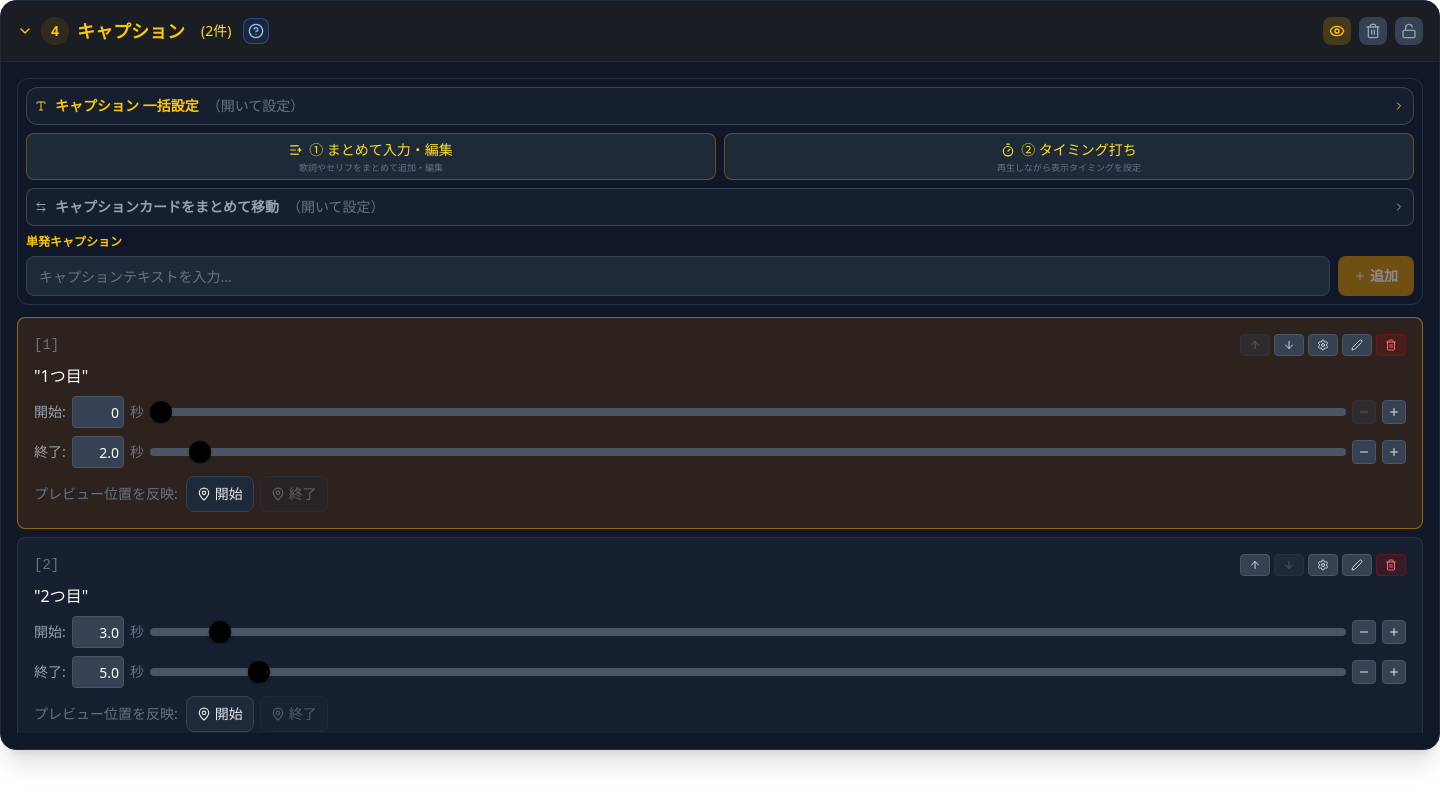
Test: タイミング打ちバーの無音区間ナビゲーション › 移動先が無い方向のボタンは無効になる
This screenshot has width=1440, height=810.
Note: タイミング打ちモードへ入る（バーはこのモードでのみ表示される）
Click the button "② タイミング打ち 再生しながら表示タイミングを設定": (1069,157) x1=724 y1=133 x2=1414 y2=180
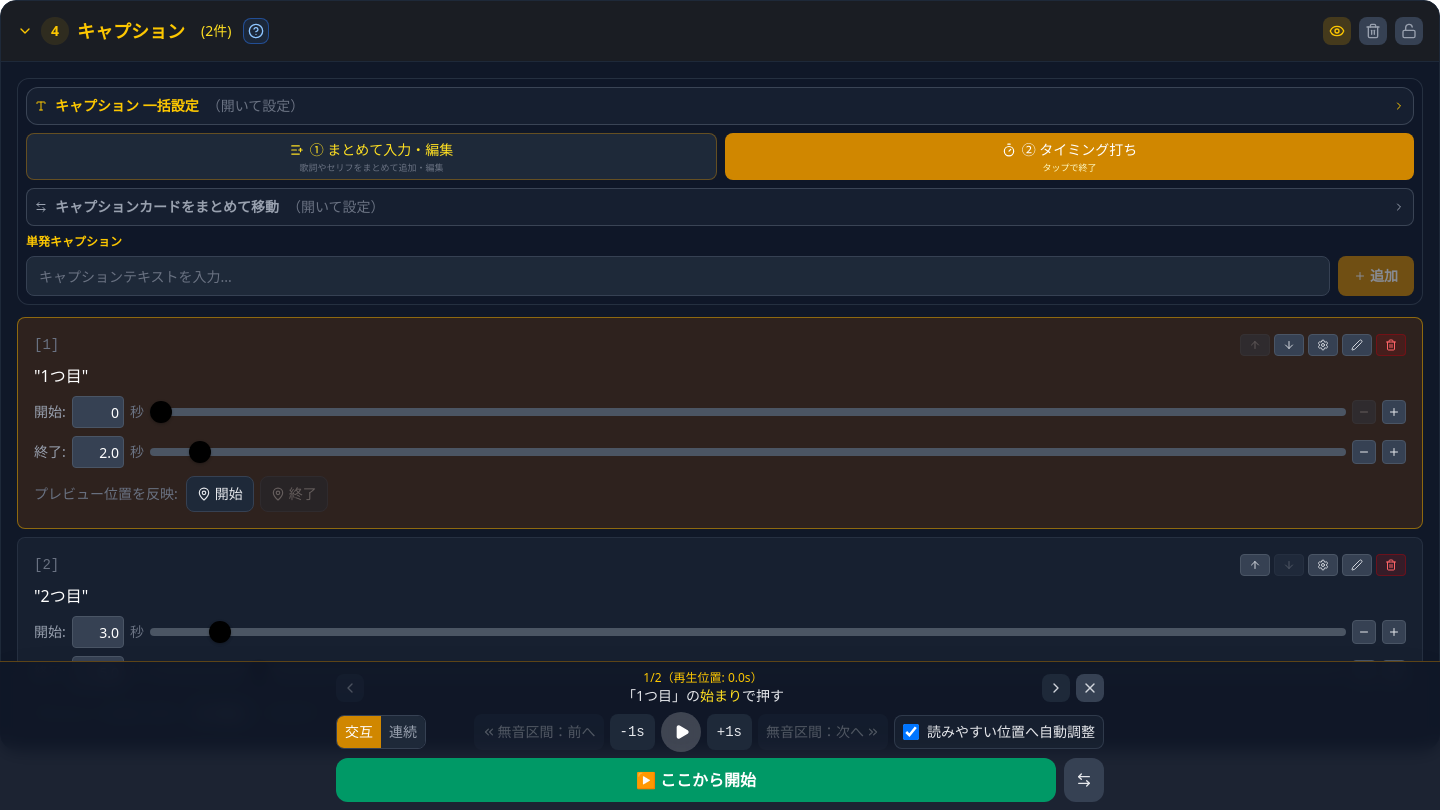
Result: the button "無音区間：前へ" is disabled at x1=474 y1=714 x2=604 y2=750
Result: the button "無音区間：次へ" is disabled at x1=758 y1=714 x2=888 y2=750
